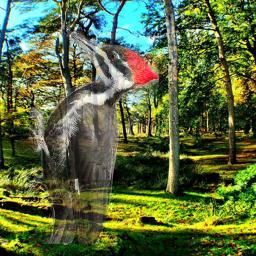Woodpecker: (29, 29, 159, 244)
